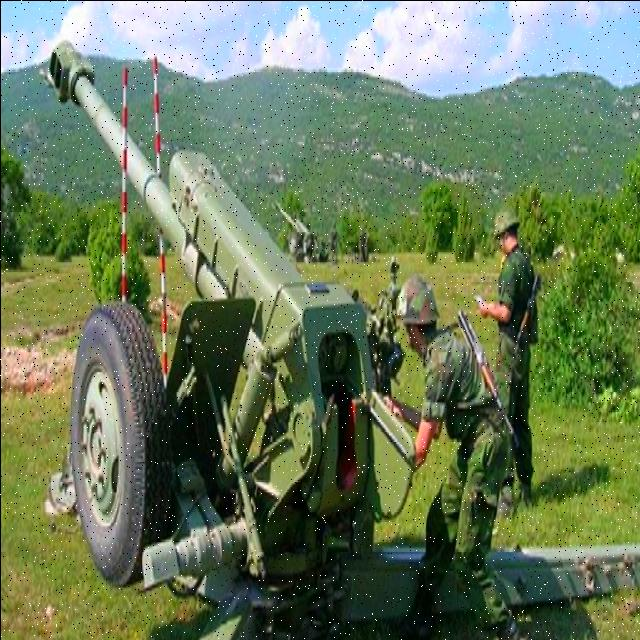ART: (44, 34, 640, 624)
